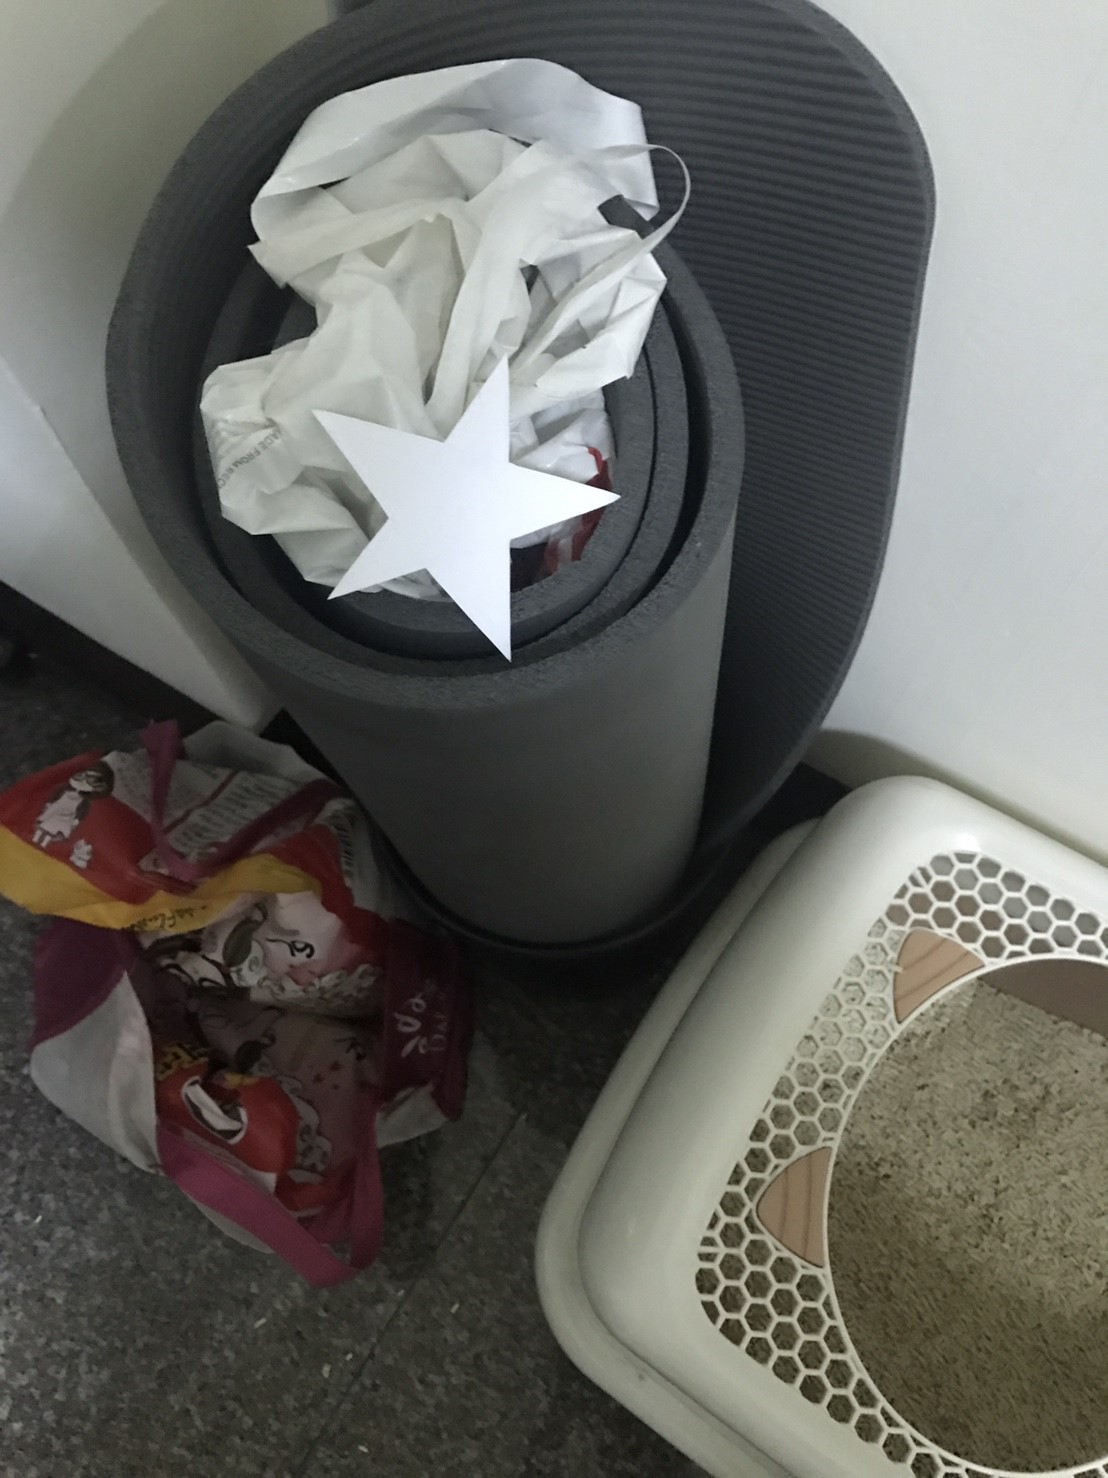star: (287, 335, 631, 674)
